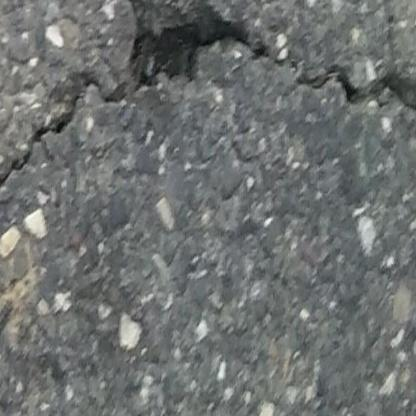Cracks: (0, 0, 272, 196), (297, 63, 416, 129)
